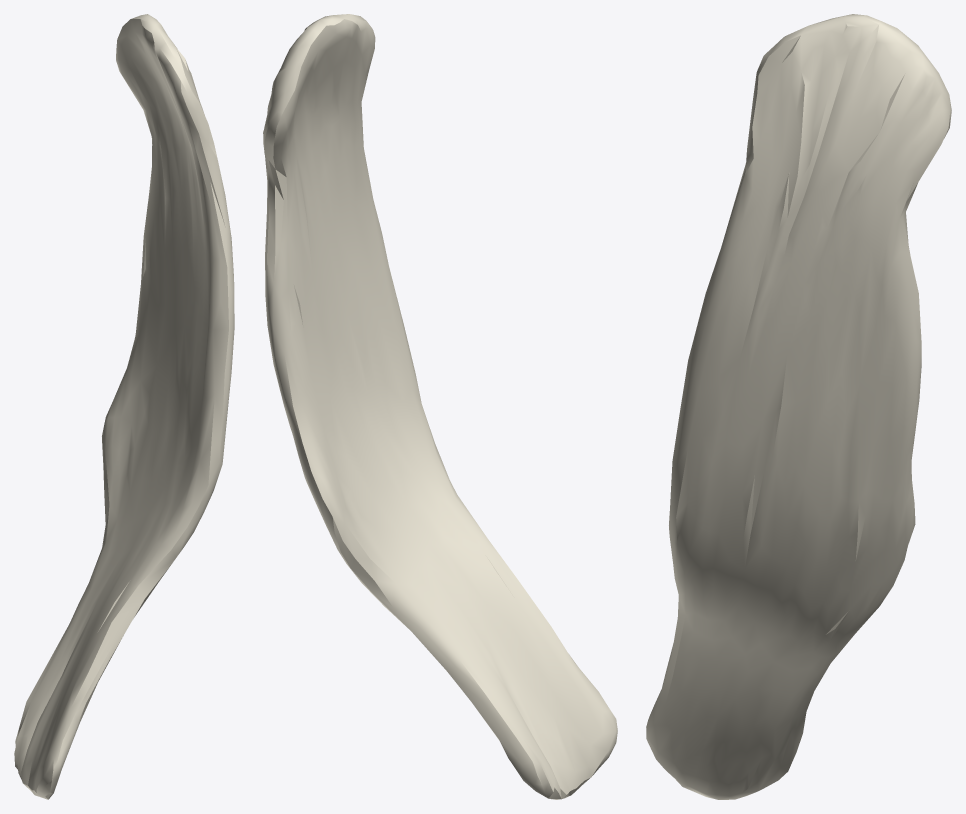
The model's file is fma44601_mm1399m.glb.
The picture shows the model from 3 angles, left to right: view 1: azimuth 30°, elevation 25°; view 2: azimuth 150°, elevation 25°; view 3: azimuth 270°, elevation 25°; orthographic projection. The views are drawn at different scales.
Parts seen in each view (by area): view 1: FMA44601_MM1399M; view 2: FMA44601_MM1399M; view 3: FMA44601_MM1399M.
Part boxes in pixels (bbox=[...]): FMA44601_MM1399M: bbox=[14, 14, 234, 799]; FMA44601_MM1399M: bbox=[263, 14, 617, 799]; FMA44601_MM1399M: bbox=[646, 14, 951, 799].
Size of the model in its own units: 0.0312 by 0.093 by 0.0291.
